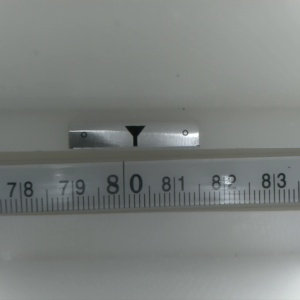0: (128, 173, 142, 193)
1: (178, 176, 184, 190)
2: (226, 174, 235, 188)
3: (276, 172, 285, 188)
7: (6, 181, 16, 197), (58, 180, 68, 195)
8: (106, 174, 119, 194), (22, 181, 33, 197), (160, 176, 170, 191), (260, 173, 270, 188), (210, 174, 220, 189)
9: (75, 179, 85, 195)
finger: (123, 126, 146, 148)
